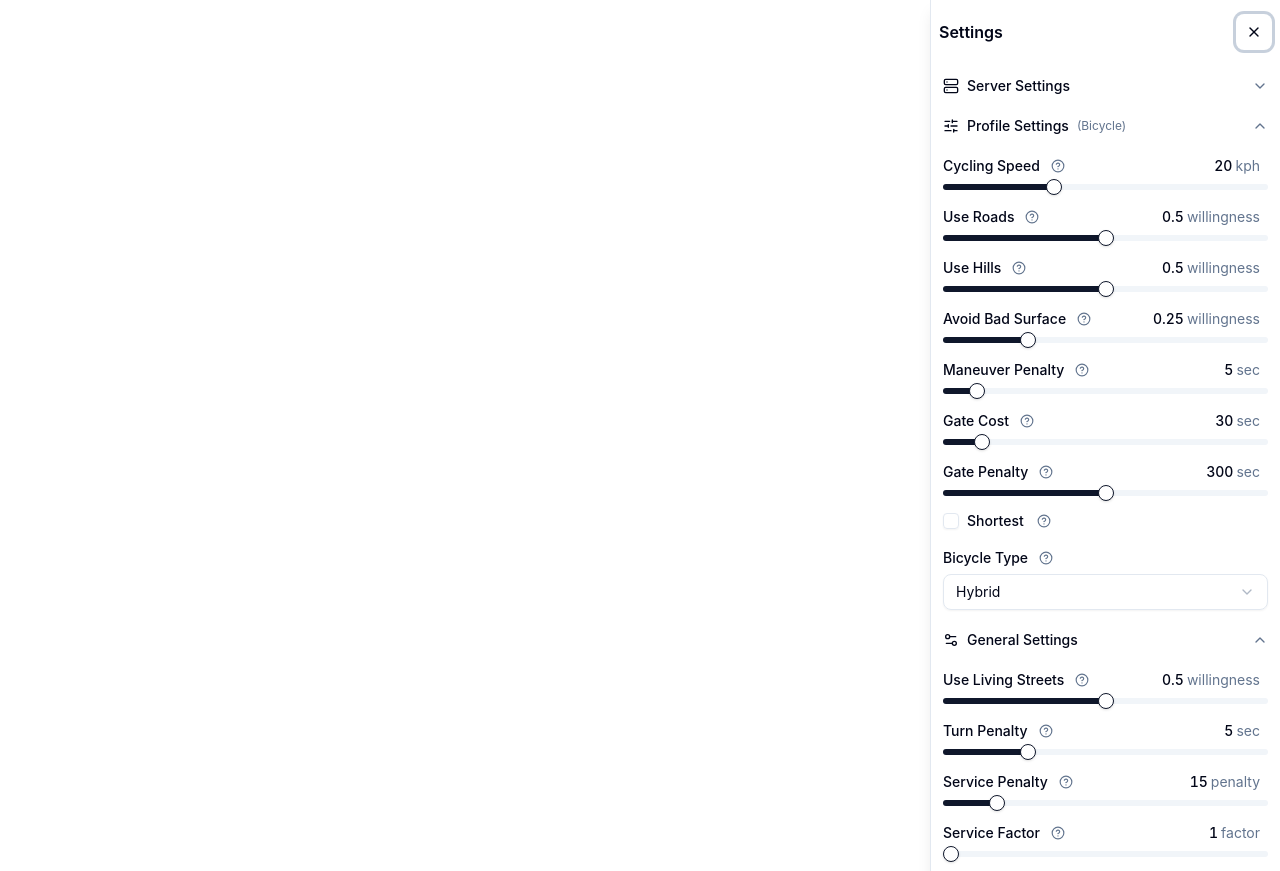
Test case: SettingsPanel › Server Settings › should render Base URL label when expanded
Click the button "Server Settings" at point(1018, 86), box [943,72,1268,100]
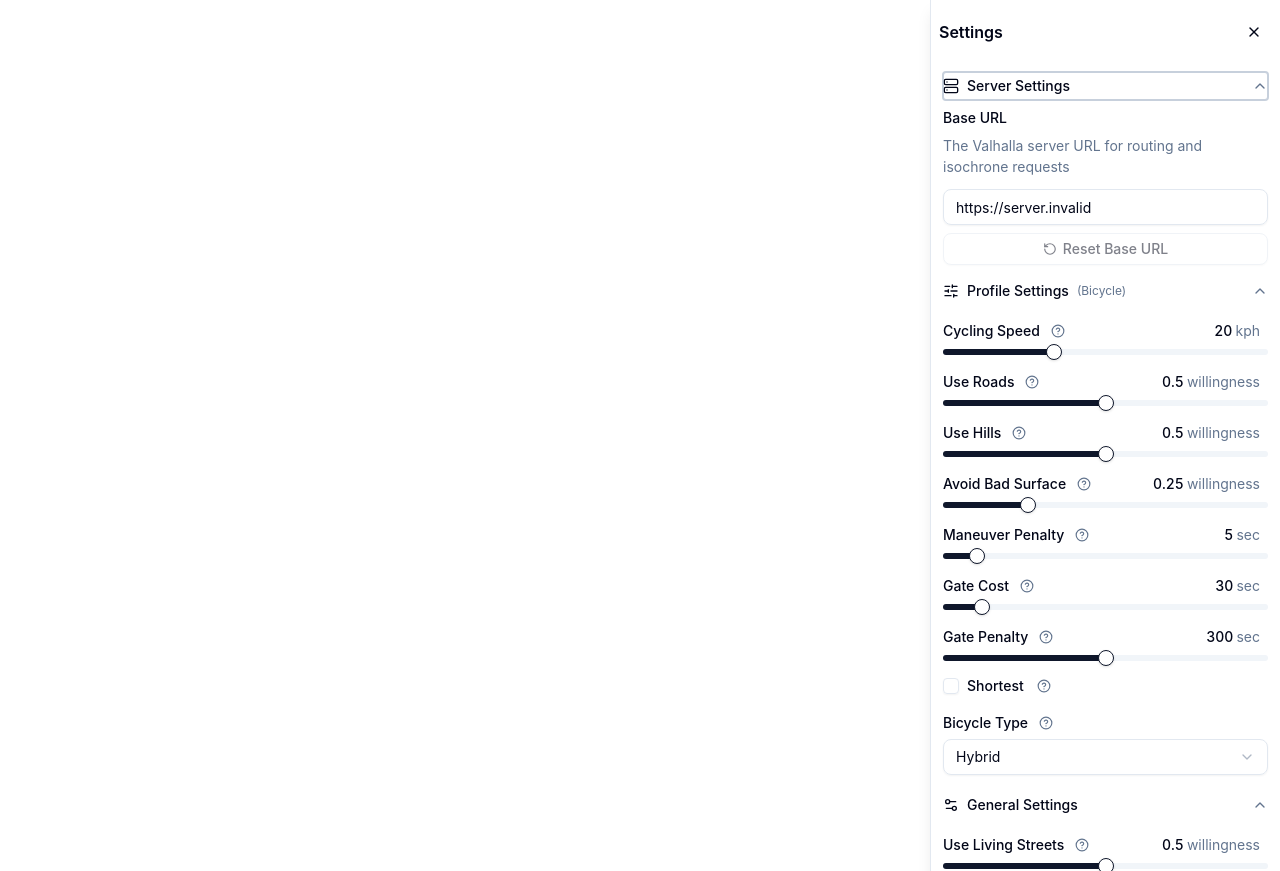
Now the text "Base URL" is shown, box [943,109,1007,126]
